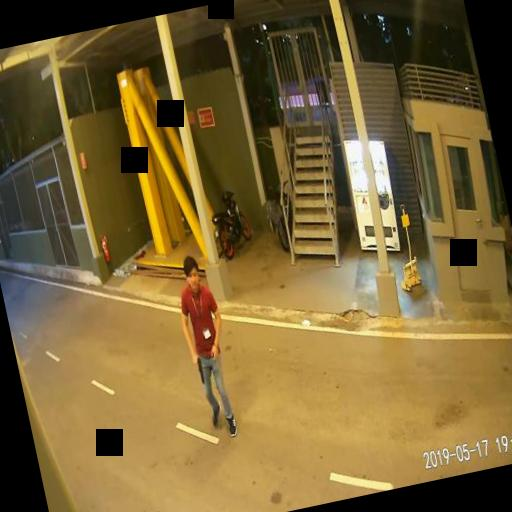Handgun: (190, 352, 203, 384)
